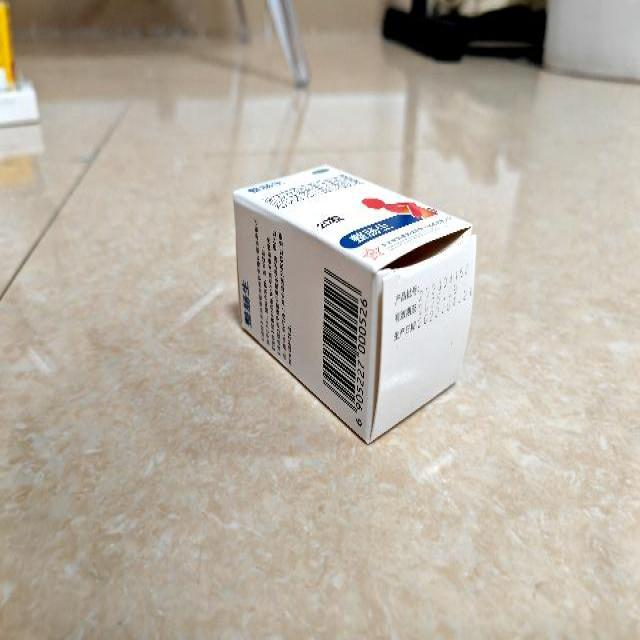box: (234, 164, 476, 442)
